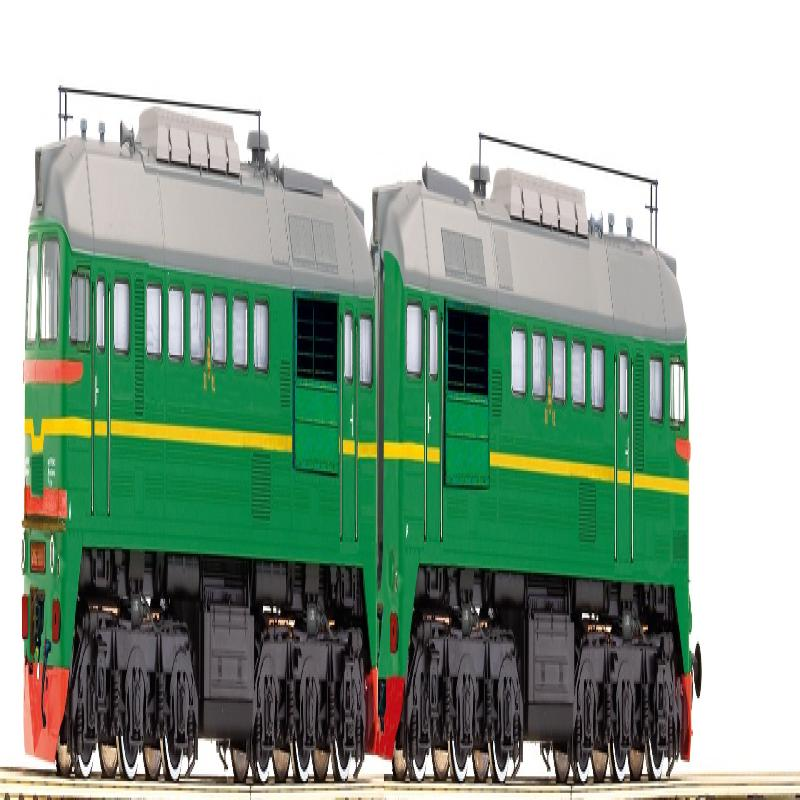train: (16, 39, 379, 800), (376, 67, 713, 800)
